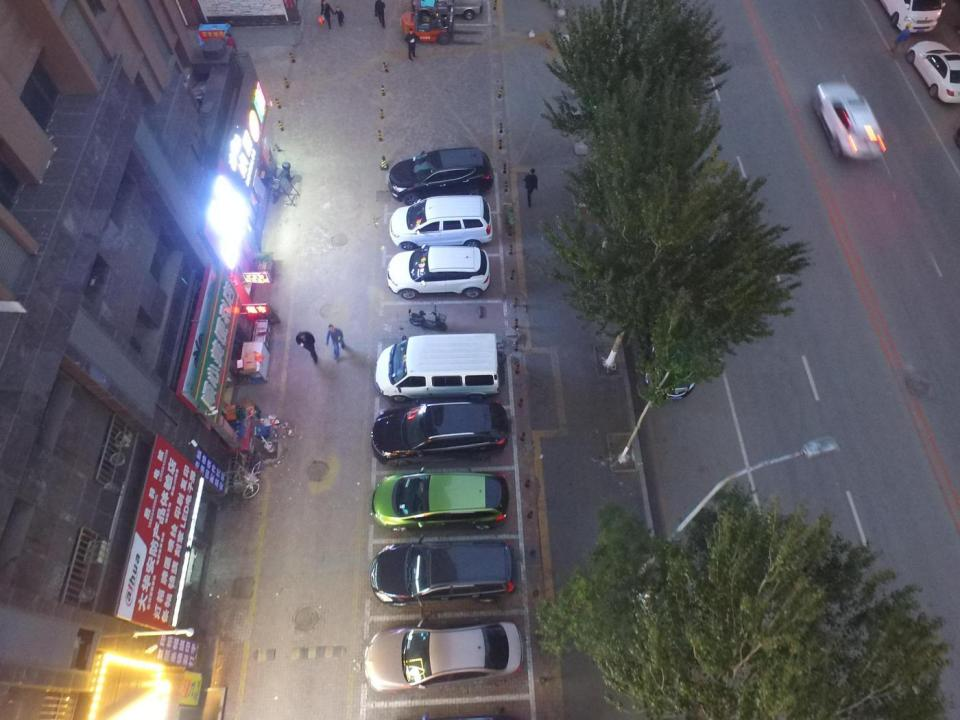car: (362, 621, 522, 694), (369, 545, 520, 606), (370, 401, 508, 462), (370, 476, 507, 534), (813, 82, 888, 168), (385, 246, 492, 298), (387, 149, 494, 199), (648, 291, 698, 398), (390, 196, 493, 246), (909, 39, 959, 106), (409, 0, 486, 20)
van: (376, 333, 503, 403), (877, 0, 944, 34)
